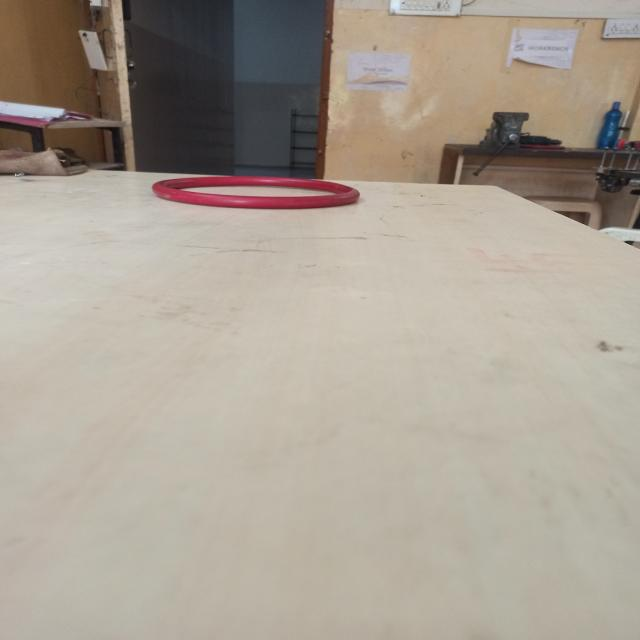daire: (154, 172, 361, 215)
